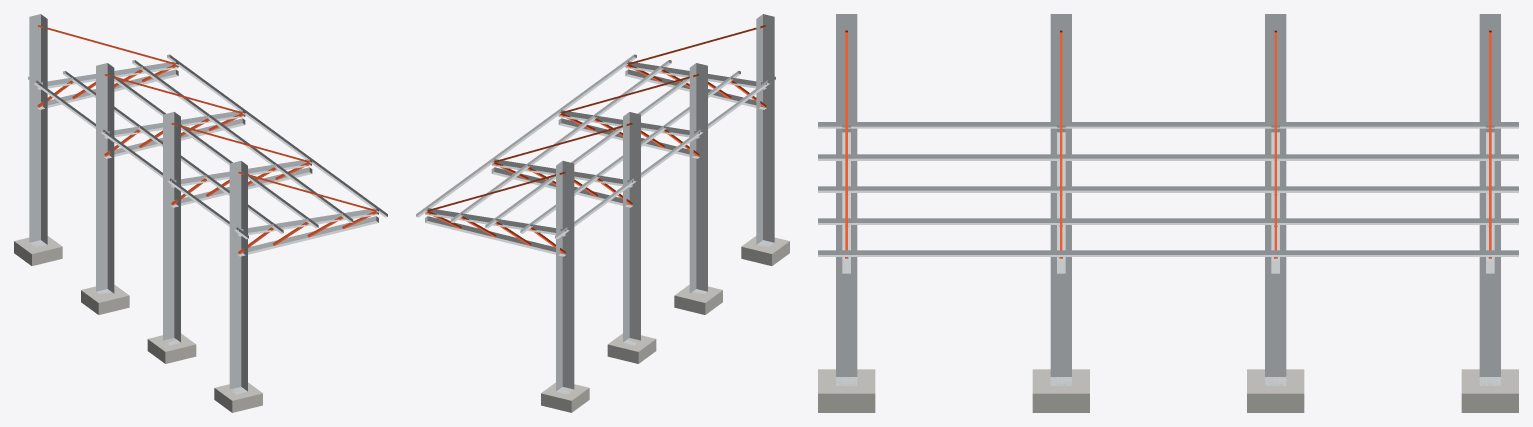
The model's file is cantilever-canopy.glb.
3 views of the same model, side by side, from view 1: azimuth 30°, elevation 25°; view 2: azimuth 150°, elevation 25°; view 3: azimuth 270°, elevation 25° (orthographic). The views are drawn at different scales.
Visible parts, largest first — view 1: cantilever-canopy; view 2: cantilever-canopy; view 3: cantilever-canopy.
Boxes of the visible parts, x1,y1,x2,y2 form: cantilever-canopy: (14, 14, 387, 412); cantilever-canopy: (416, 14, 789, 412); cantilever-canopy: (818, 14, 1518, 412).
Bounding box in the file's own units: 4.03 × 5.9 × 9.8.
